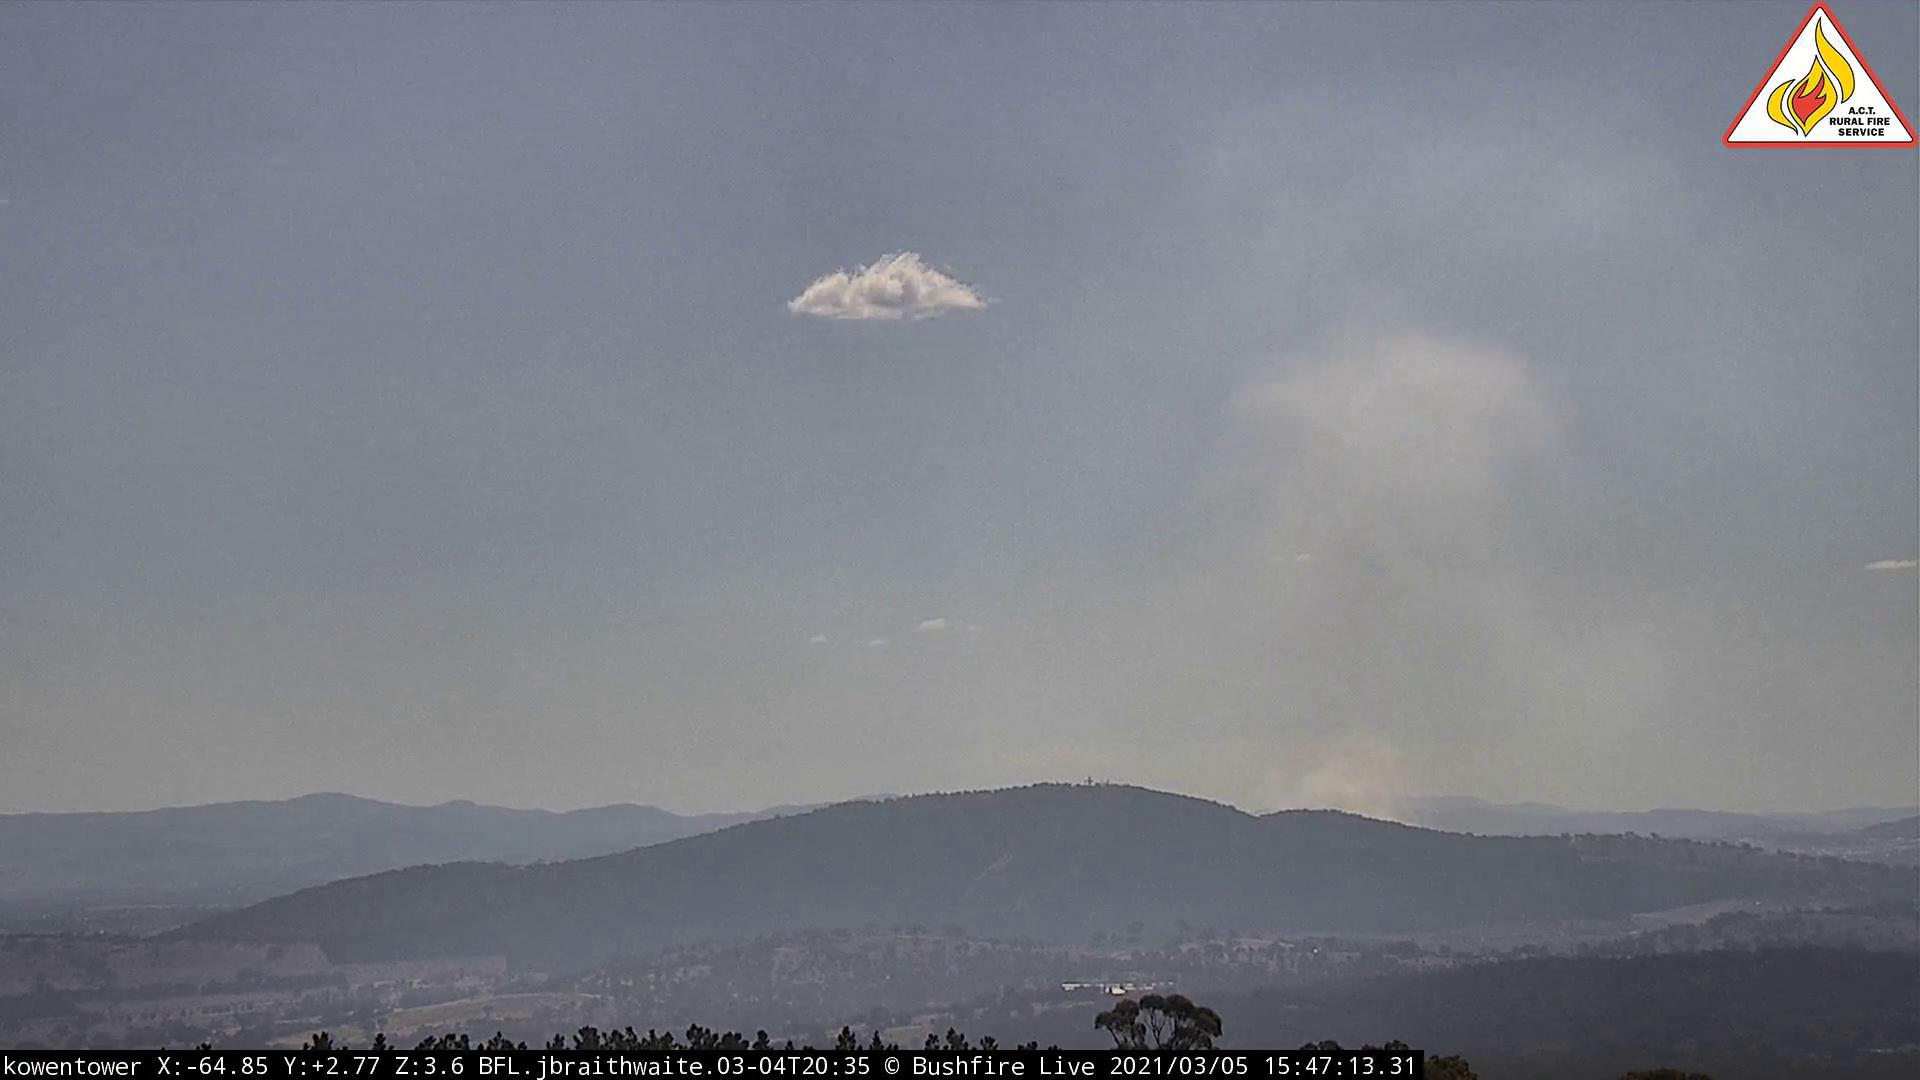Smoke: (1079, 290, 1800, 851)
